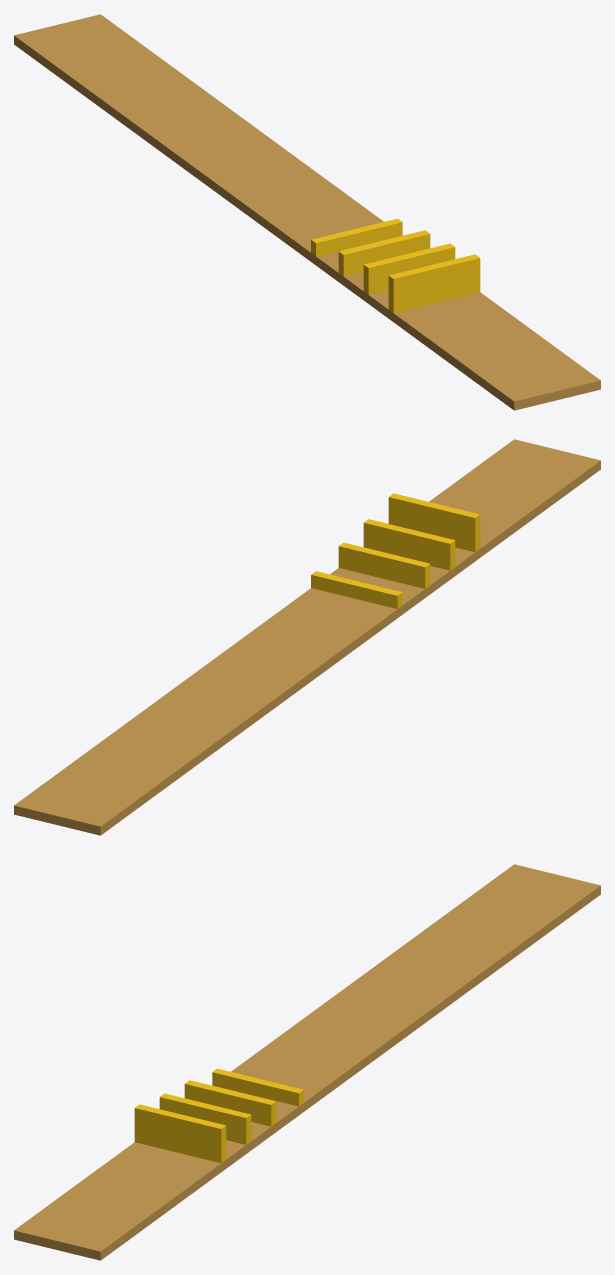
Rendered from Tile.fbx.
3 views of the same model, one above another, from view 1: azimuth 30°, elevation 25°; view 2: azimuth 150°, elevation 25°; view 3: azimuth 330°, elevation 25° (orthographic).
Visible parts, largest first — view 1: Cube.001, Cube.005, Cube.003, Cube.004, Cube.002; view 2: Cube.001, Cube.005, Cube.004, Cube.003, Cube.002; view 3: Cube.001, Cube.005, Cube.003, Cube.004, Cube.002.
Boxes of the visible parts, x1,y1,x2,y2 form: Cube.001: [14, 14, 600, 410]; Cube.005: [388, 254, 480, 313]; Cube.003: [338, 230, 430, 276]; Cube.004: [363, 243, 455, 294]; Cube.002: [311, 218, 402, 256]; Cube.001: [14, 439, 600, 835]; Cube.005: [388, 493, 480, 552]; Cube.004: [363, 519, 455, 570]; Cube.003: [338, 542, 430, 588]; Cube.002: [311, 571, 402, 608]; Cube.001: [14, 864, 600, 1260]; Cube.005: [134, 1104, 226, 1163]; Cube.003: [184, 1080, 276, 1126]; Cube.004: [159, 1093, 251, 1144]; Cube.002: [212, 1068, 303, 1106].
Bounding box in the file's own units: 2000 × 955 × 20000.
